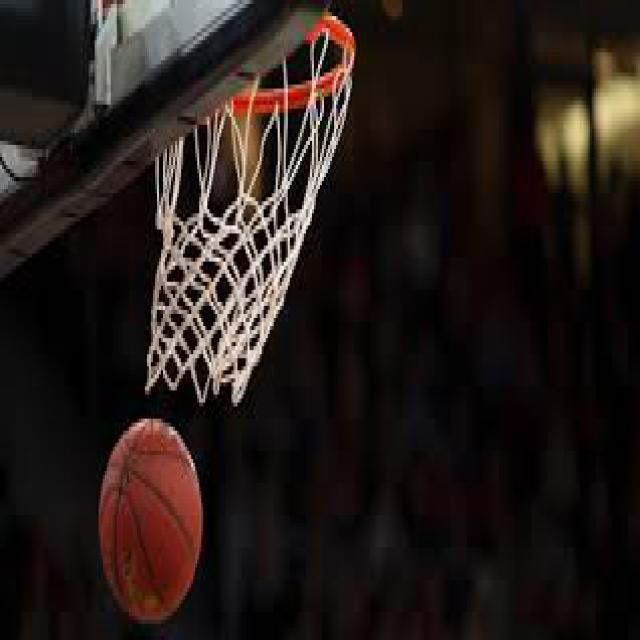basketball: (96, 418, 204, 624)
rim: (214, 12, 358, 129)
